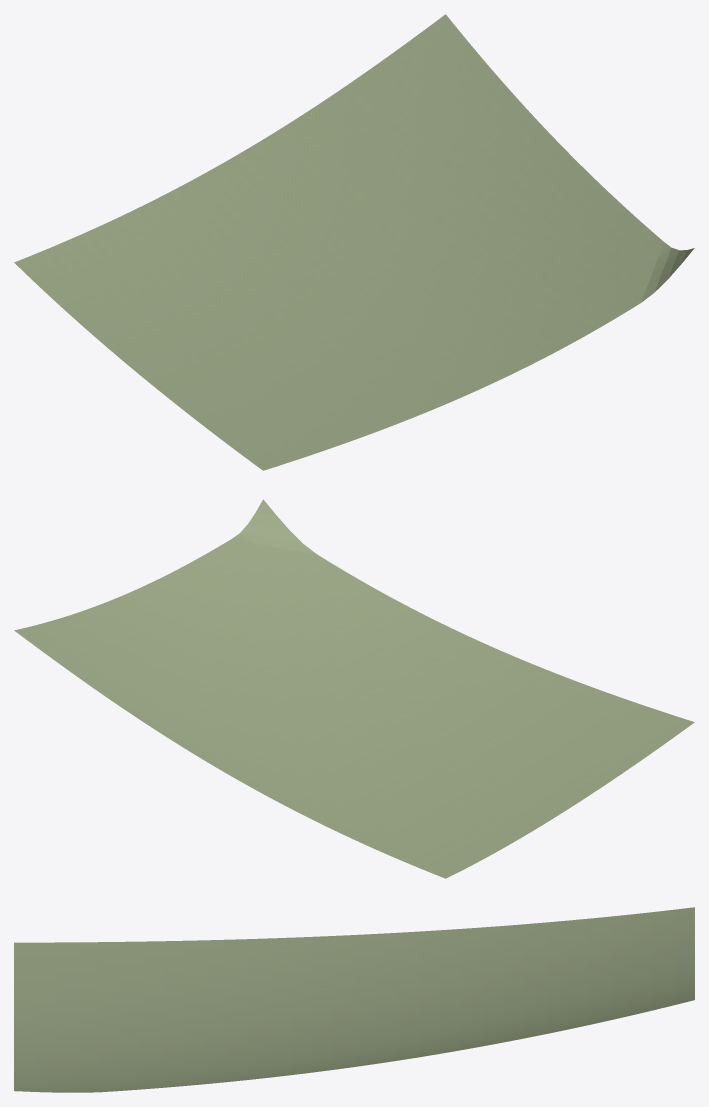
File: expanse-27-24.glb
3 renders of one model, top to bottom at view 1: azimuth 30°, elevation 25°; view 2: azimuth 150°, elevation 25°; view 3: azimuth 270°, elevation 25°, orthographic. The views are drawn at different scales.
Parts seen in each view (by area): view 1: expanse-27-24; view 2: expanse-27-24; view 3: expanse-27-24.
Part boxes in pixels (x1,y1,x2,y2): expanse-27-24: (14,14,694,470); expanse-27-24: (14,499,694,878); expanse-27-24: (14,907,694,1092).
Size of the model in its own units: 256 by 95.73 by 256.
